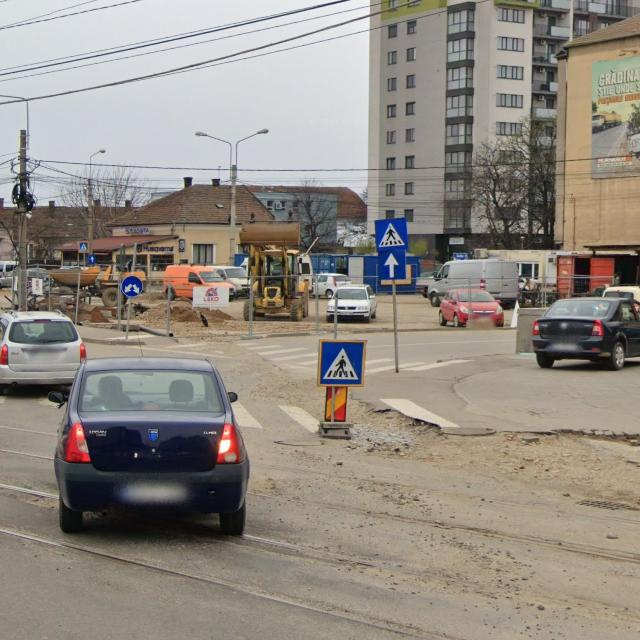info_crosswalk: (318, 340, 366, 386), (374, 218, 408, 250), (77, 241, 89, 253)
info_one_way_traffic: (378, 250, 407, 280)
mand_pass_left_right: (121, 274, 142, 298)
mand_straight: (88, 253, 96, 264)
